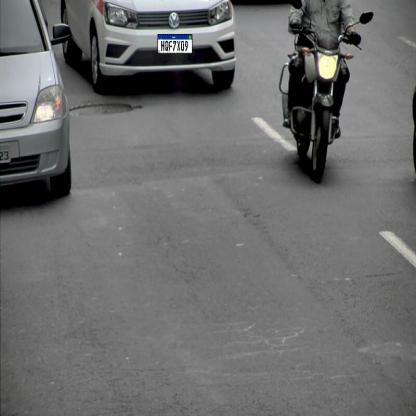PlacaM: (158, 34, 192, 54)
